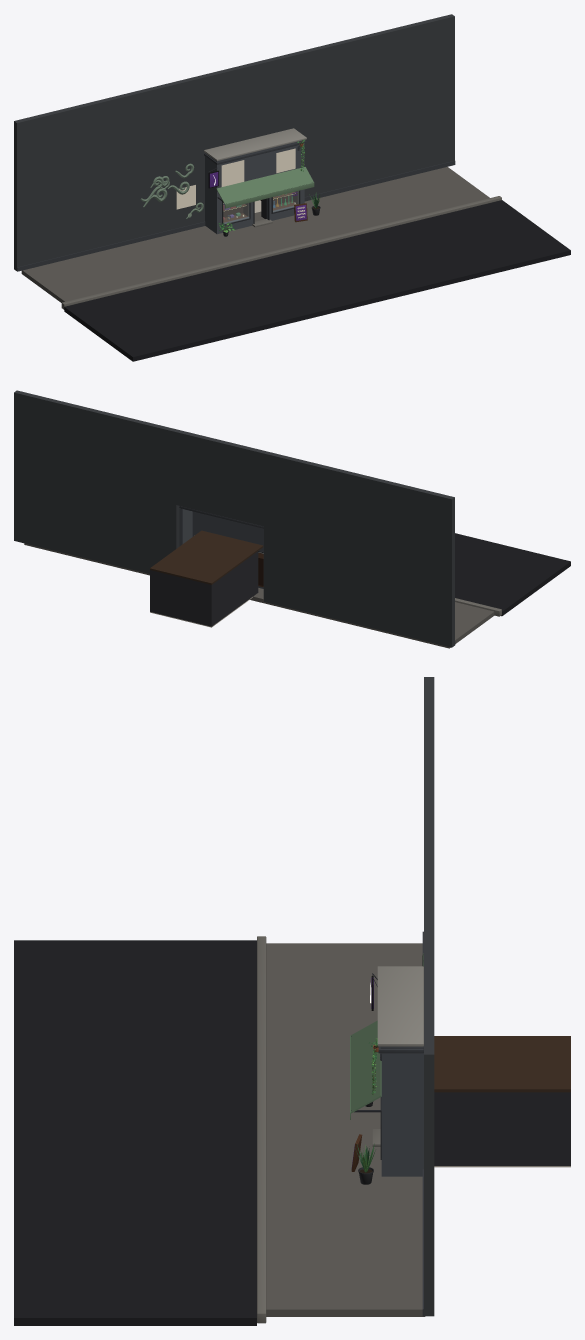
Rendered from shop-v2.glb.
3 renders of one model, top to bottom at view 1: azimuth 30°, elevation 25°; view 2: azimuth 150°, elevation 25°; view 3: azimuth 270°, elevation 25°, orthographic. The views are drawn at different scales.
Visible parts, largest first — view 1: v2_backwall, v2_street, v2_facade, v2_awning, v2_shopfront, v2_windows, decal_good; view 2: v2_backwall, v2_shell, v2_street, v2_facade; view 3: v2_street, v2_shell, v2_facade, v2_backwall, v2_awning.
Part boxes in pixels (left/top/right/bottom): v2_backwall: left=14, top=14, right=455, bottom=271; v2_street: left=21, top=167, right=570, bottom=361; v2_facade: left=204, top=128, right=306, bottom=234; v2_awning: left=216, top=167, right=314, bottom=208; v2_shopfront: left=222, top=190, right=300, bottom=225; v2_windows: left=223, top=191, right=298, bottom=222; decal_good: left=221, top=160, right=244, bottom=186; v2_backwall: left=14, top=390, right=455, bottom=647; v2_shell: left=150, top=530, right=263, bottom=626; v2_street: left=24, top=533, right=570, bottom=648; v2_facade: left=179, top=506, right=263, bottom=598; v2_street: left=14, top=936, right=425, bottom=1325; v2_shell: left=434, top=1036, right=570, bottom=1165; v2_facade: left=372, top=966, right=423, bottom=1176; v2_backwall: left=422, top=677, right=434, bottom=1316; v2_awning: left=350, top=1020, right=381, bottom=1119.
Size of the model in its own units: 34 by 11.4 by 21.2.
